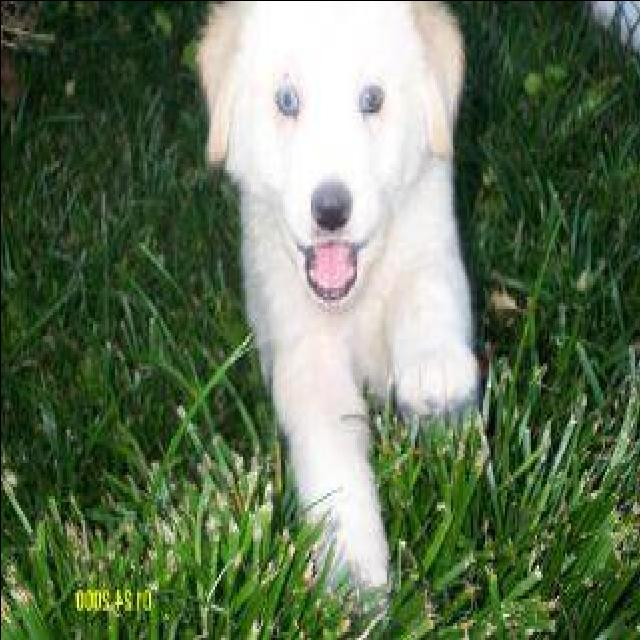dog: (162, 0, 492, 640)
